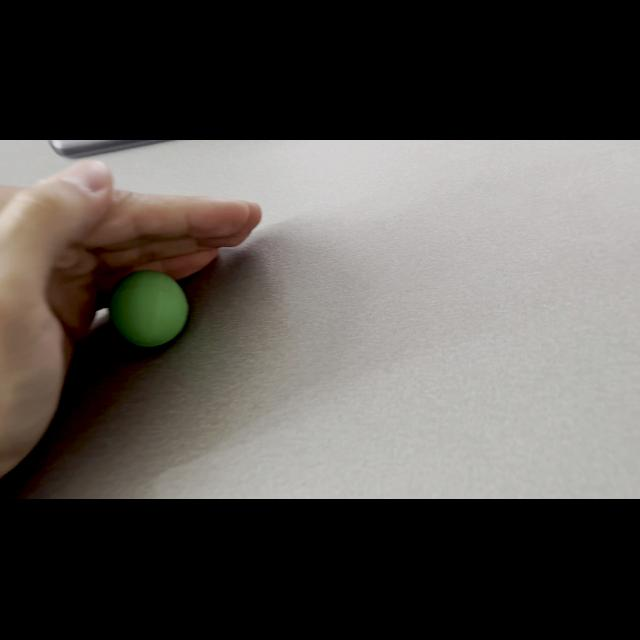objects: (99, 260, 199, 358)
